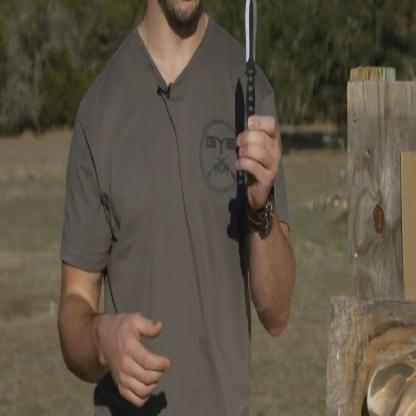knife: (236, 0, 278, 196)
